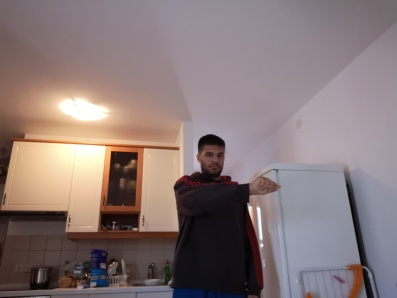A: (251, 174, 285, 196)
